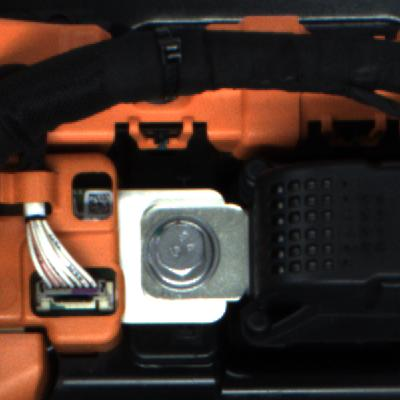nut_b: (142, 217, 223, 295)
